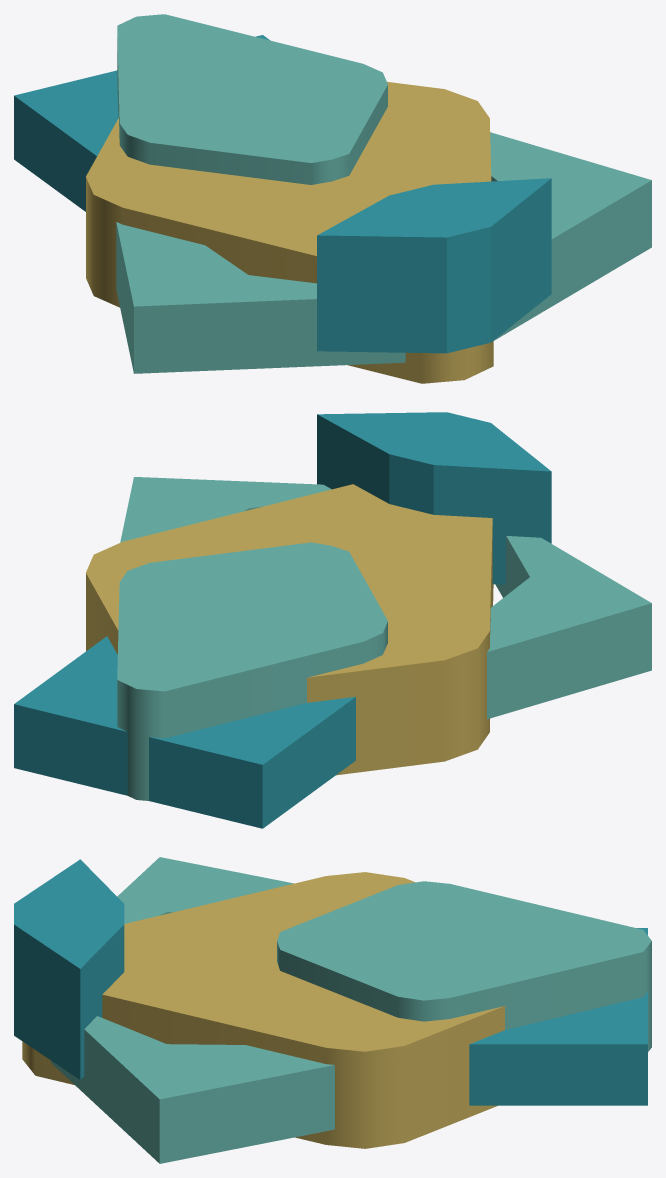
The model's file is port25.fbx.
The picture shows the model from 3 angles, top to bottom: view 1: azimuth 30°, elevation 25°; view 2: azimuth 150°, elevation 25°; view 3: azimuth 270°, elevation 25°; orthographic projection. The views are drawn at different scales.
Parts seen in each view (by area): view 1: polySurface254; view 2: polySurface254; view 3: polySurface254.
Boxes of the visible parts, x1,y1,x2,y2 form: polySurface254: [14, 14, 651, 383]; polySurface254: [14, 412, 651, 828]; polySurface254: [14, 857, 651, 1163].
Size of the model in its own units: 33.94 by 9.46 by 37.75.
